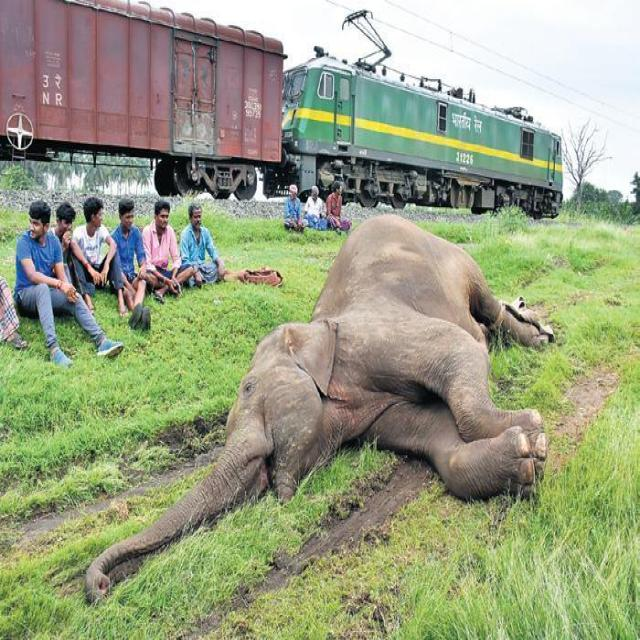Elephant: (195, 232, 557, 512)
